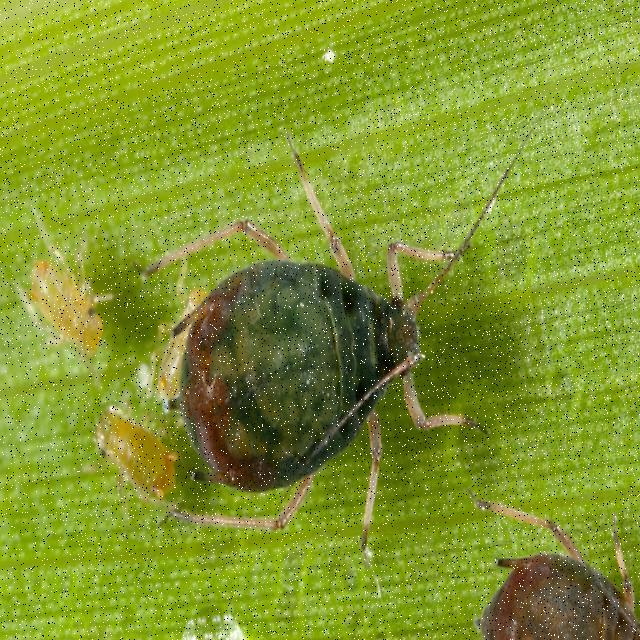Aphids: (156, 162, 494, 562), (65, 387, 196, 519), (9, 212, 116, 351)
